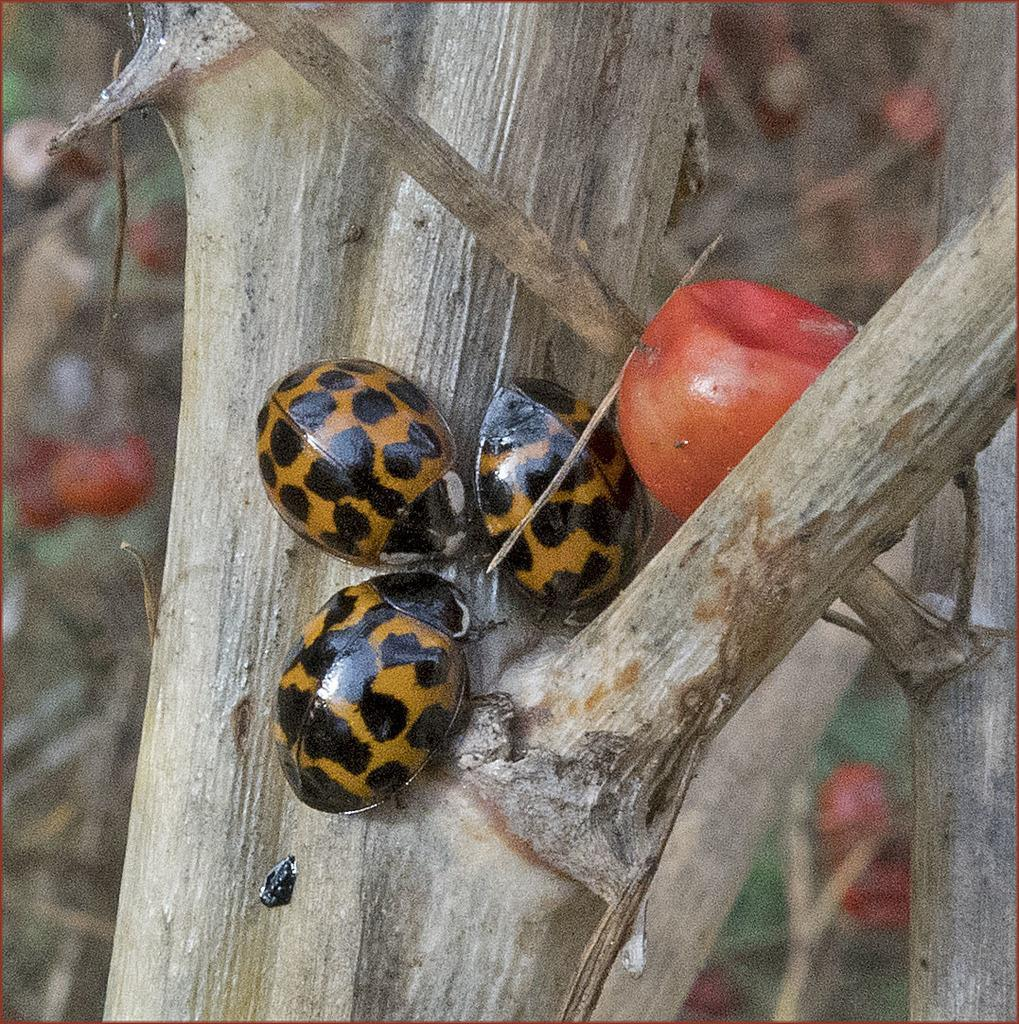ladybug: (266, 561, 506, 824), (254, 349, 489, 576), (466, 366, 661, 639)
